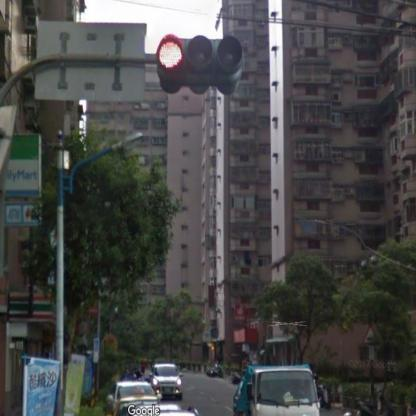Red Light: (156, 32, 244, 85)
